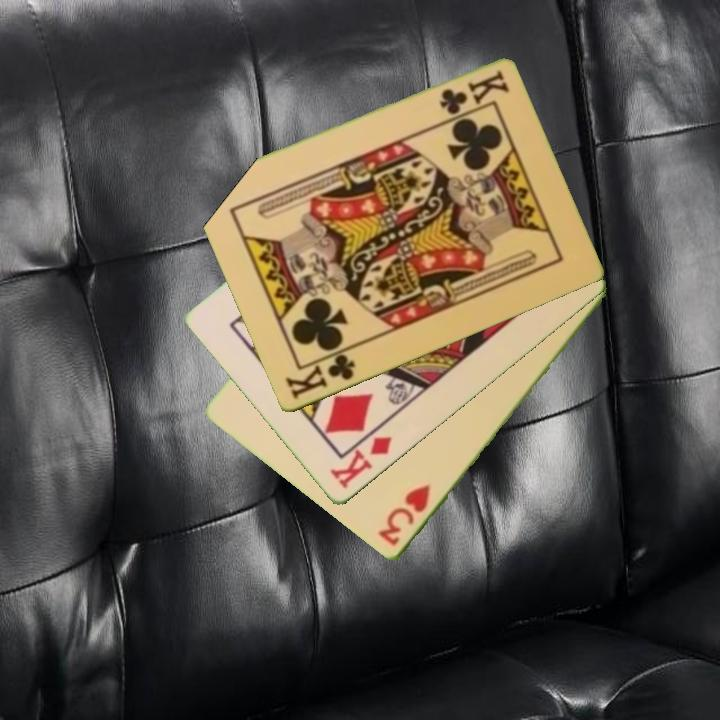3h: (374, 481, 434, 550)
Kc: (281, 345, 359, 403), (435, 66, 511, 117)
Kd: (326, 433, 396, 493)
